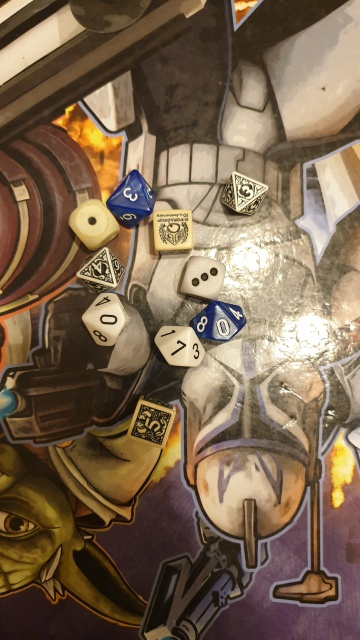d10-10: (77, 287, 126, 349), (188, 300, 254, 346)
d10-3: (110, 171, 149, 218)
d10-7: (152, 320, 206, 371)
d6-1: (65, 197, 119, 248)
d6-3: (177, 254, 223, 303)
d6p-5: (125, 396, 177, 446)
d6p-6: (150, 210, 193, 252)
d8p-3: (220, 170, 271, 219)
d8p-4: (74, 248, 127, 293)
